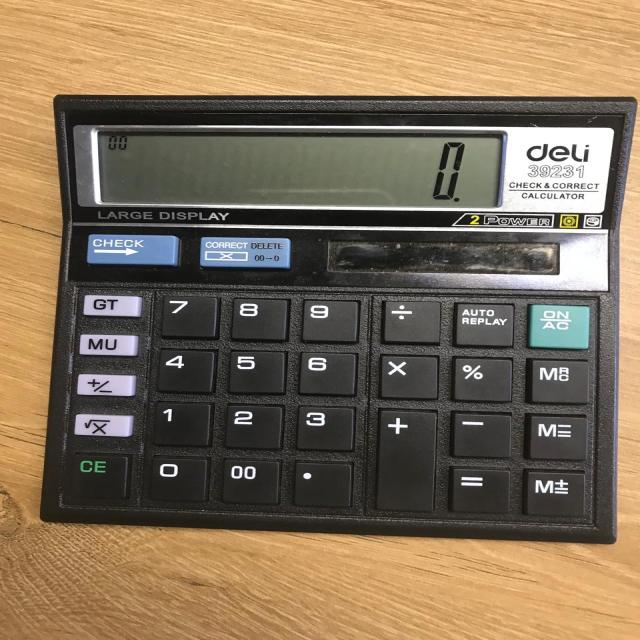calculator: (38, 92, 636, 544)
